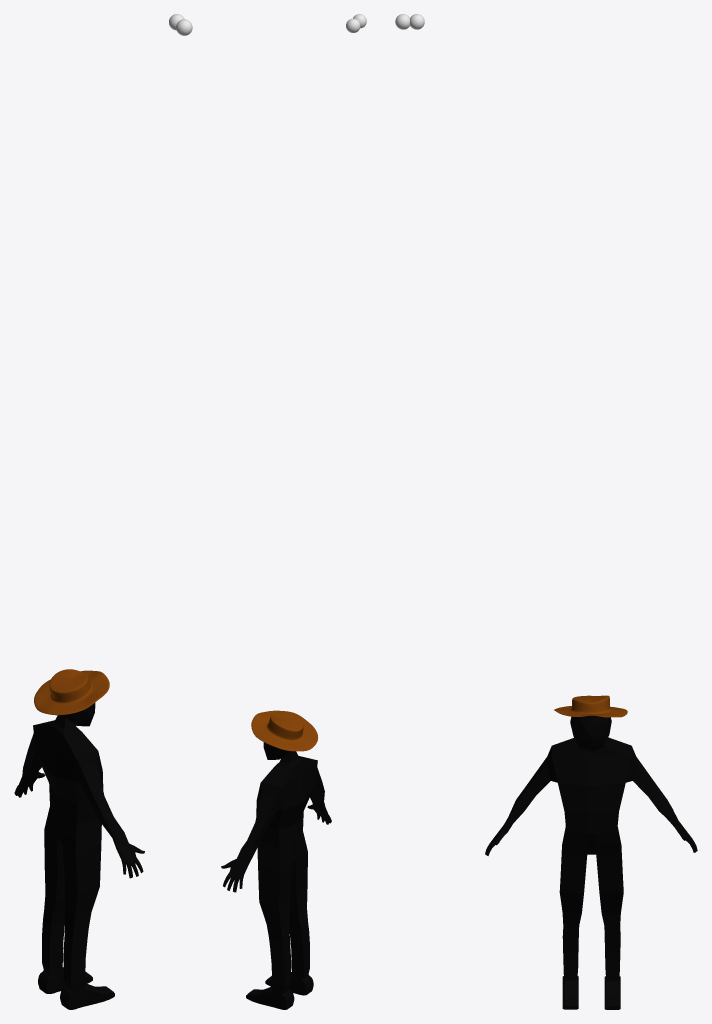
File: Inimigo_VAR2.fbx
The picture shows the model from 3 angles, left to right: view 1: azimuth 30°, elevation 25°; view 2: azimuth 150°, elevation 25°; view 3: azimuth 270°, elevation 25°; orthographic projection. The views are drawn at different scales.
Visible parts, largest first — view 1: Circle; view 2: Circle; view 3: Circle.
Part boxes in pixels (x1,y1,x2,y2): Circle: (14, 669, 144, 1009); Circle: (221, 710, 331, 1009); Circle: (485, 695, 697, 1009).
Bounding box in the file's own units: 69.57 × 1085 × 300.
